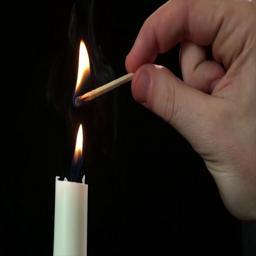fire: (75, 41, 92, 94), (74, 124, 84, 163)
